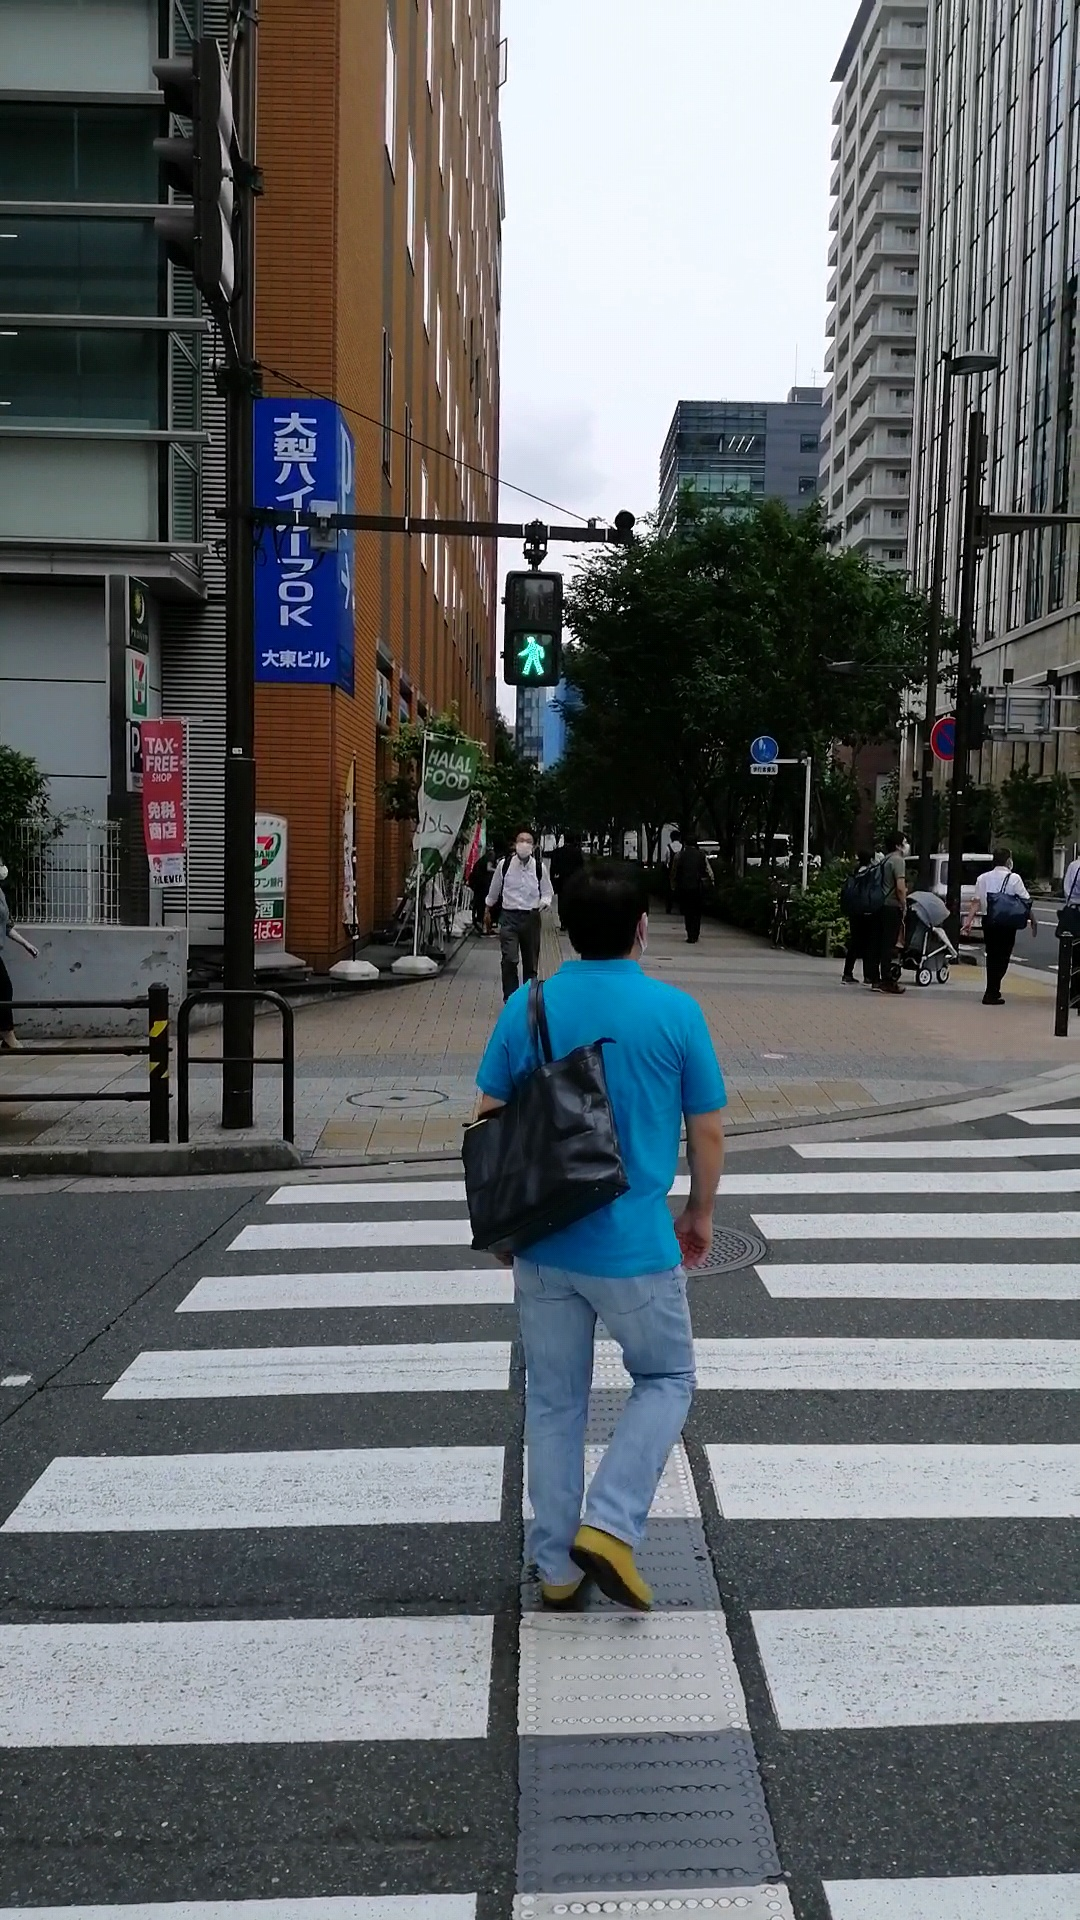green: (504, 571, 562, 686)
